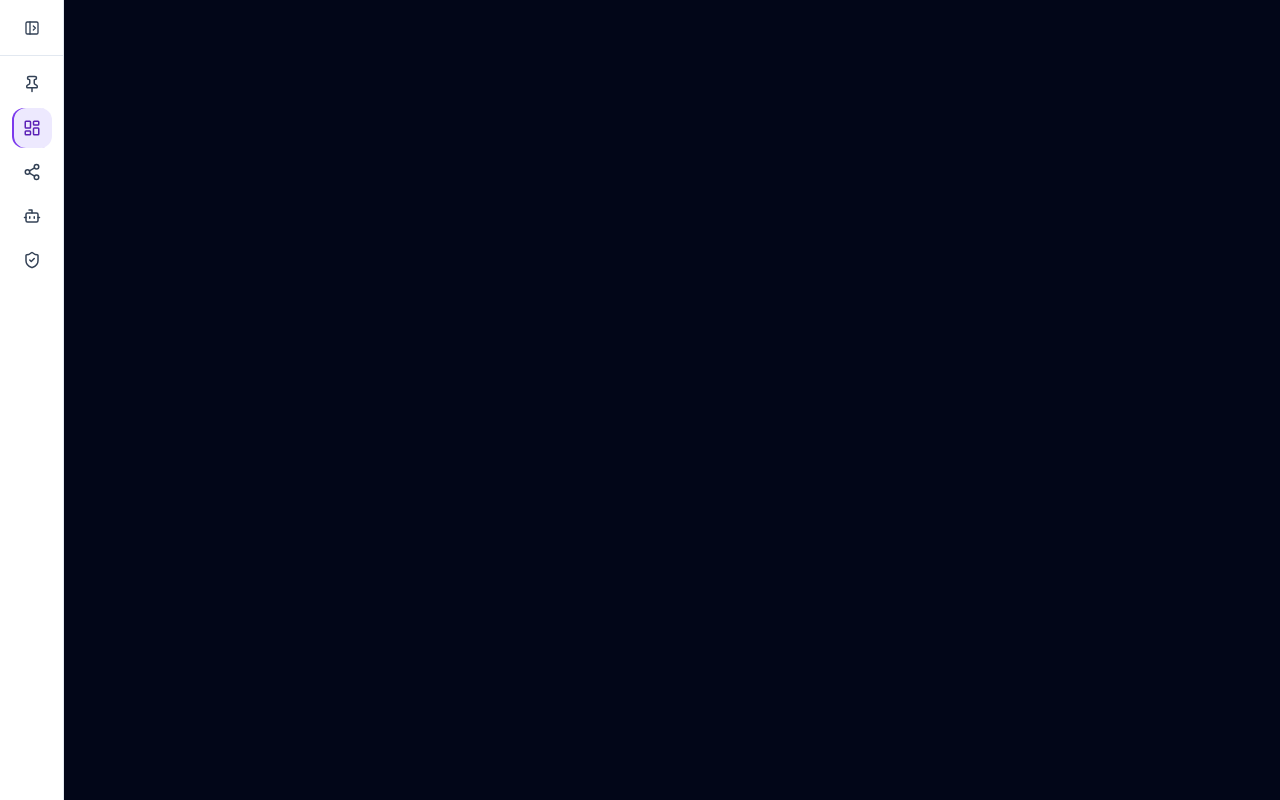
it: pinned favourites › shows pinned items in the rail flyout too
Click the button named "Pinned". click: (32, 84)
box: left=12, top=64, right=52, bottom=104
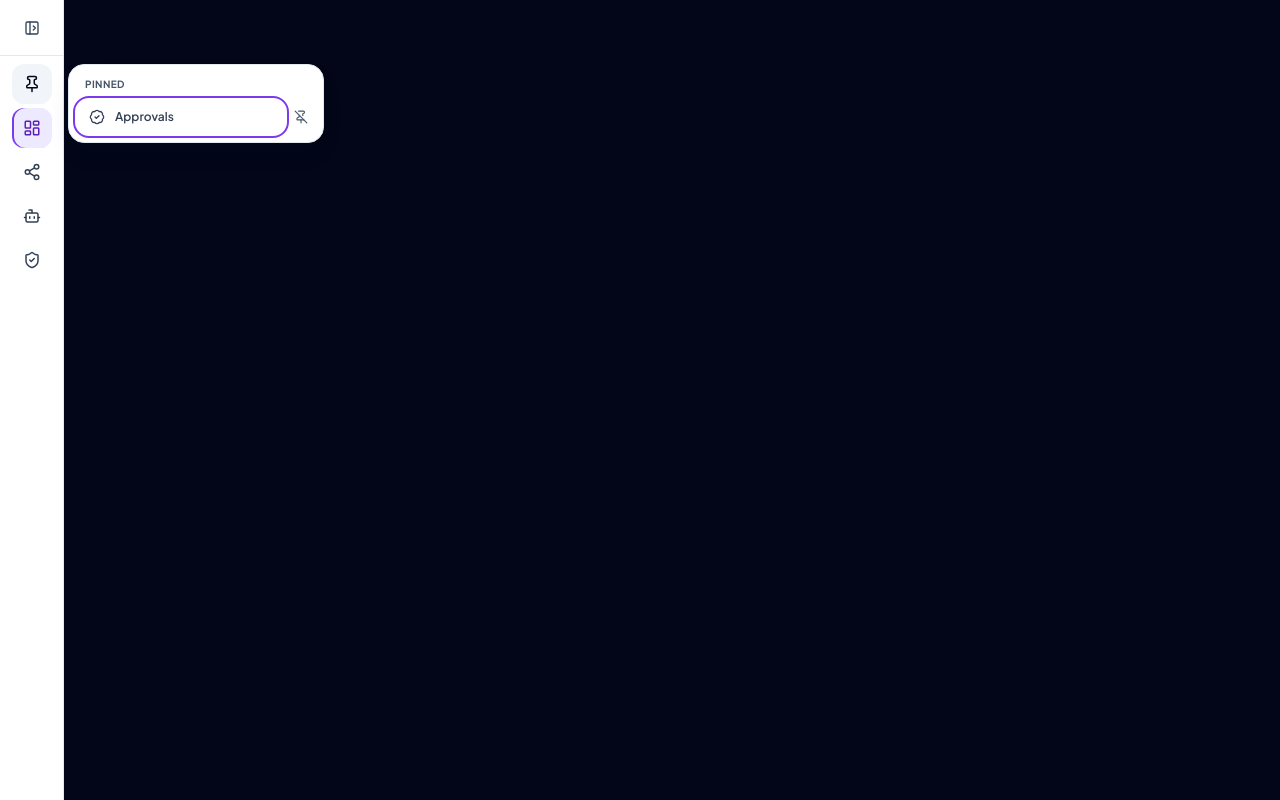
Result: the button "Approvals" is shown at left=77, top=100, right=285, bottom=134
